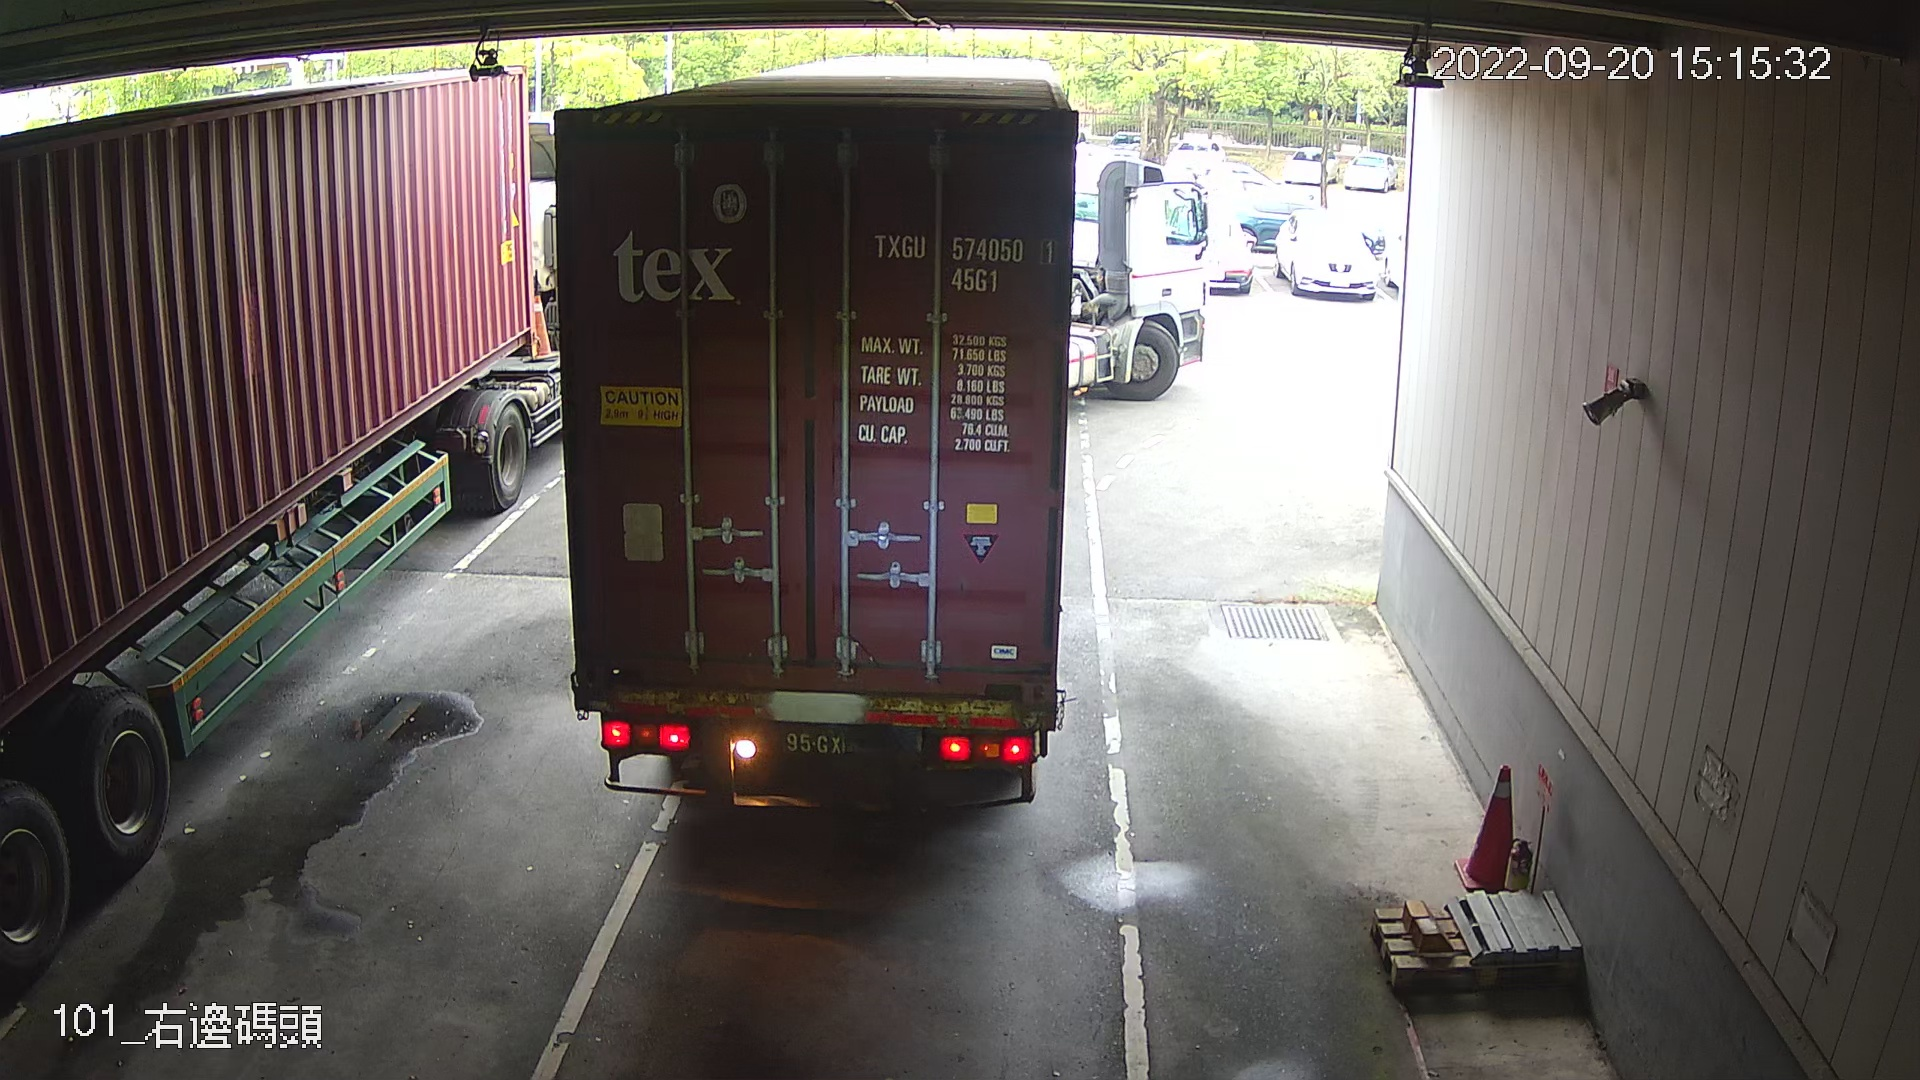container: (864, 222, 1063, 301)
